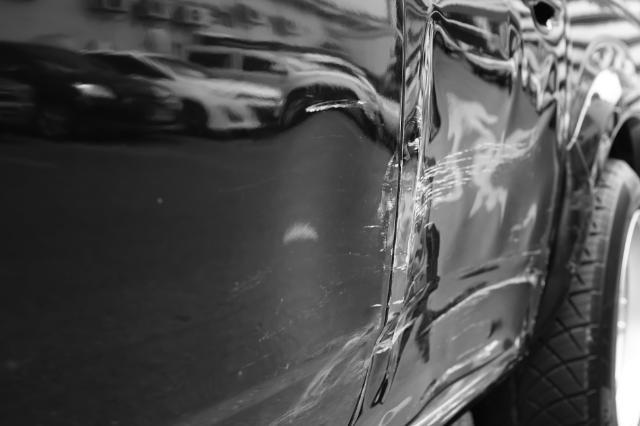Door: (366, 0, 571, 412)
